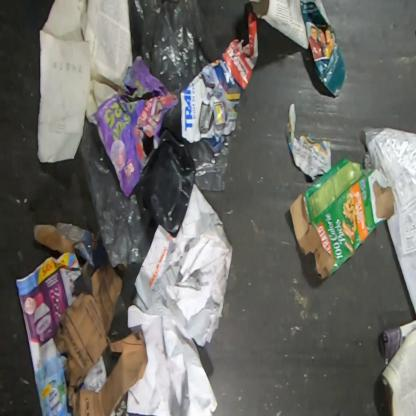cardboard: (53, 262, 149, 415), (286, 157, 396, 284), (33, 222, 110, 296)
rigid_plastic: (133, 128, 197, 233)
soft_plastic: (77, 112, 159, 268), (363, 126, 415, 317), (127, 0, 215, 94), (190, 136, 235, 190)
